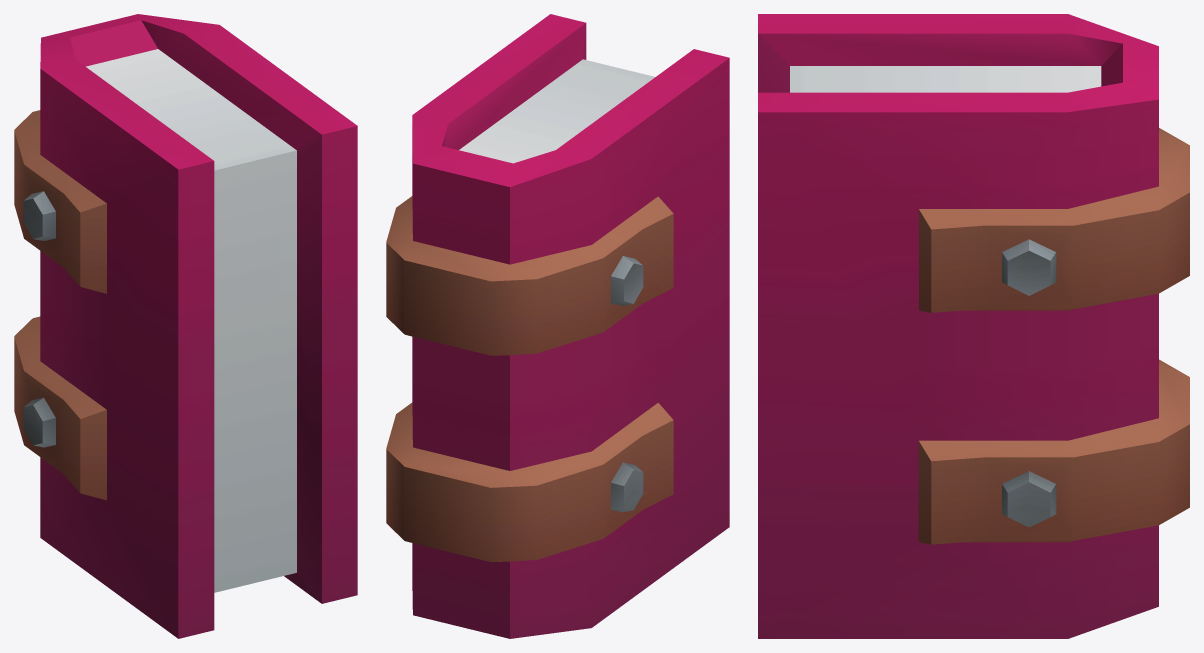
Rendered from w_book.glb.
3 renders of one model, left to right at view 1: azimuth 30°, elevation 25°; view 2: azimuth 150°, elevation 25°; view 3: azimuth 270°, elevation 25°, orthographic. The views are drawn at different scales.
Parts seen in each view (by area): view 1: spellbook_closed; view 2: spellbook_closed; view 3: spellbook_closed.
Boxes of the visible parts, bbox=[...] form: spellbook_closed: bbox=[14, 14, 357, 638]; spellbook_closed: bbox=[386, 14, 729, 638]; spellbook_closed: bbox=[758, 14, 1189, 638].
Size of the model in its own units: 0.293 by 0.575 by 0.4272.
1 material, 1 textured.
